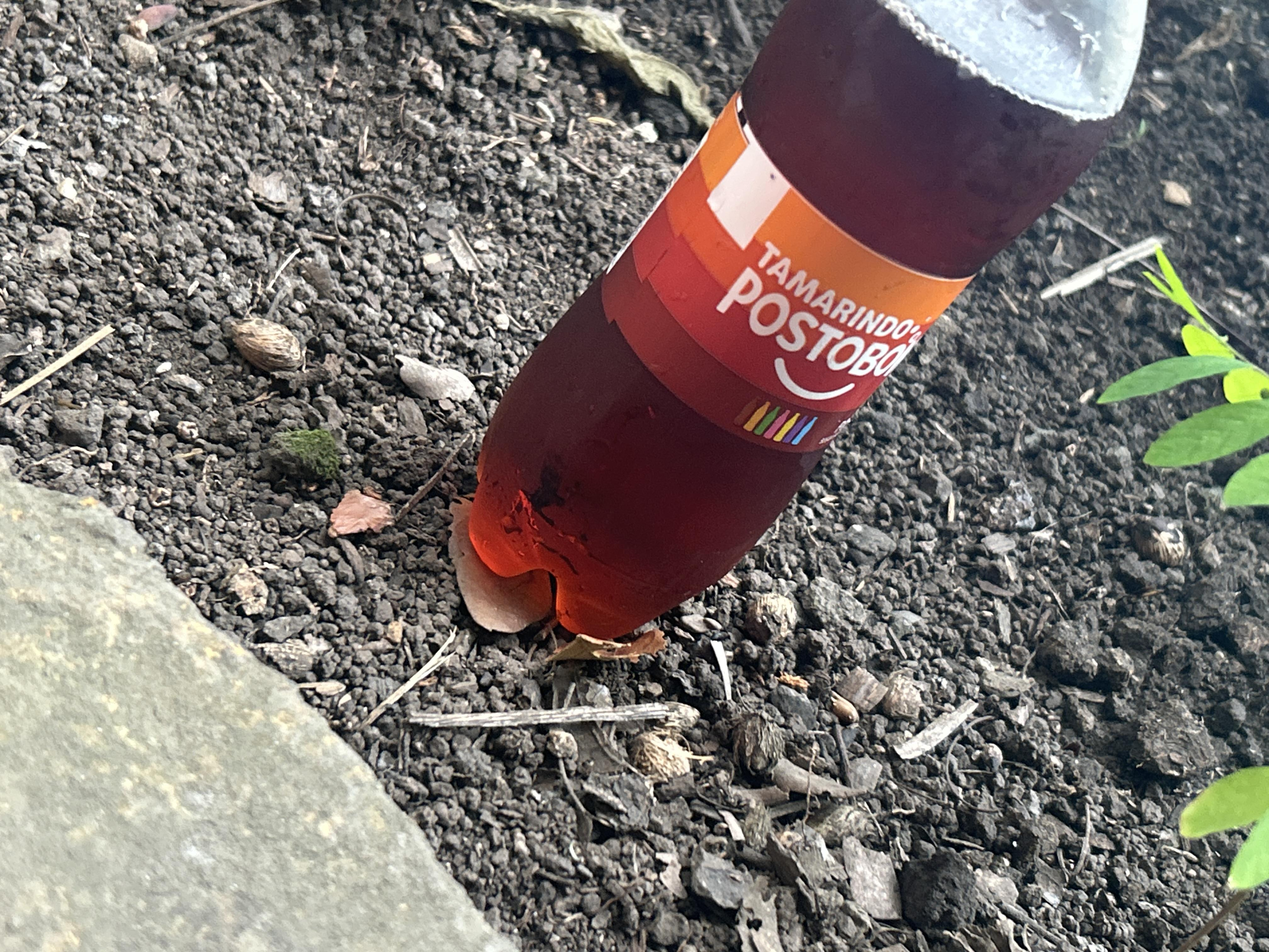tamarindo: (472, 0, 1145, 637)
